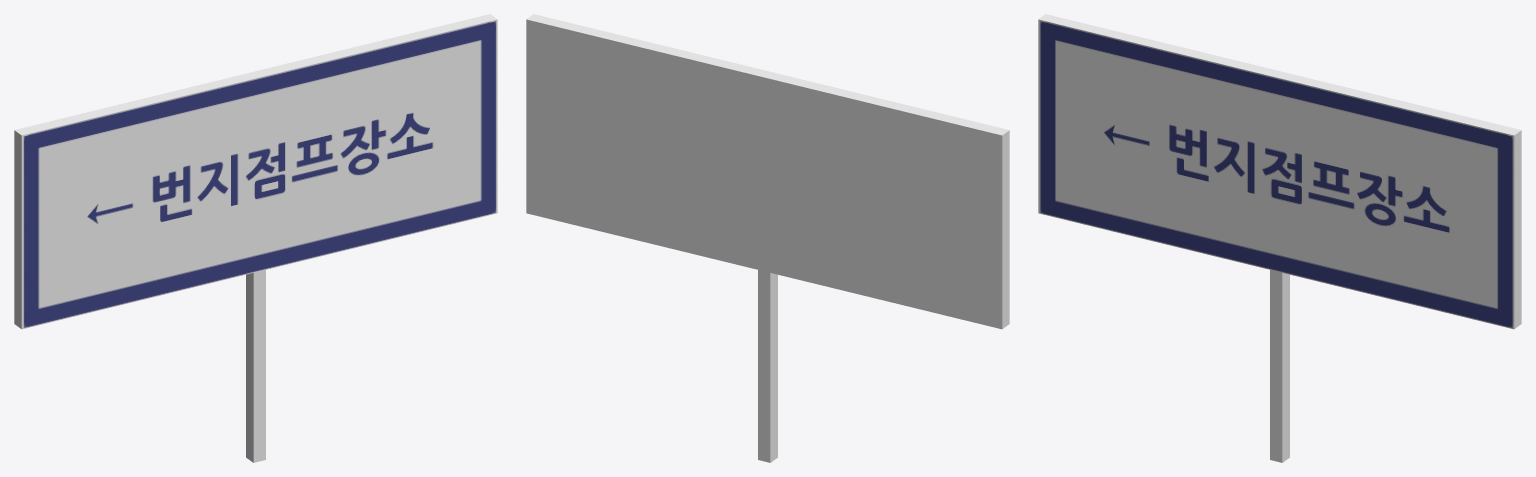
Rendered from bungee_info.fbx.
The picture shows the model from 3 angles, left to right: view 1: azimuth 30°, elevation 25°; view 2: azimuth 150°, elevation 25°; view 3: azimuth 330°, elevation 25°; orthographic projection.
Visible parts, largest first — view 1: bungee_info; view 2: bungee_info; view 3: bungee_info.
Part boxes in pixels (x1,y1,x2,y2): bungee_info: (14,14,497,462); bungee_info: (526,14,1009,462); bungee_info: (1038,14,1521,462).
Bounding box in the file's own units: 0.00938 × 0.00724 × 0.000254.
1 material, 1 textured.
